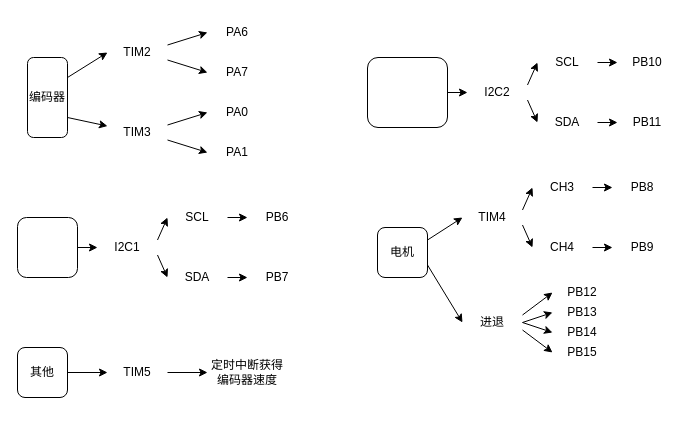
The diagram is 695 pixels wide and 434 high, and some of its shapes have lost their labels. The centre of each missing label's shape, as x and y in pixels:
"mpu6050" goes at pixel 407 92.
"oled" goes at pixel 47 247.
